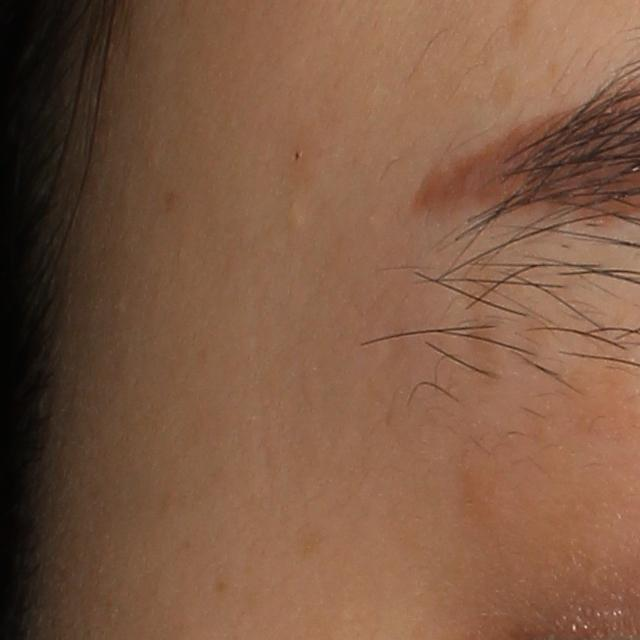comedo: (283, 199, 310, 229)
